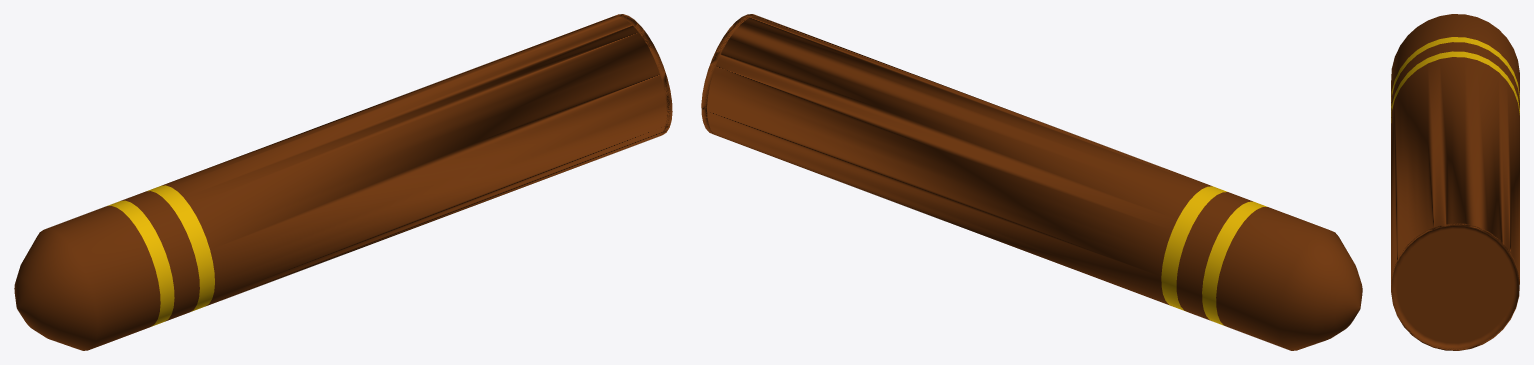
Rendered from cigare.glb.
3 views of the same model, side by side, from view 1: azimuth 30°, elevation 25°; view 2: azimuth 150°, elevation 25°; view 3: azimuth 270°, elevation 25° (orthographic). The views are drawn at different scales.
Visible parts, largest first — view 1: Cylinder; view 2: Cylinder; view 3: Cylinder.
Boxes of the visible parts, bbox=[...] form: Cylinder: bbox=[14, 14, 672, 350]; Cylinder: bbox=[701, 14, 1362, 350]; Cylinder: bbox=[1391, 14, 1519, 350].
Size of the model in its own units: 5.35 by 1.54 by 0.9194.
